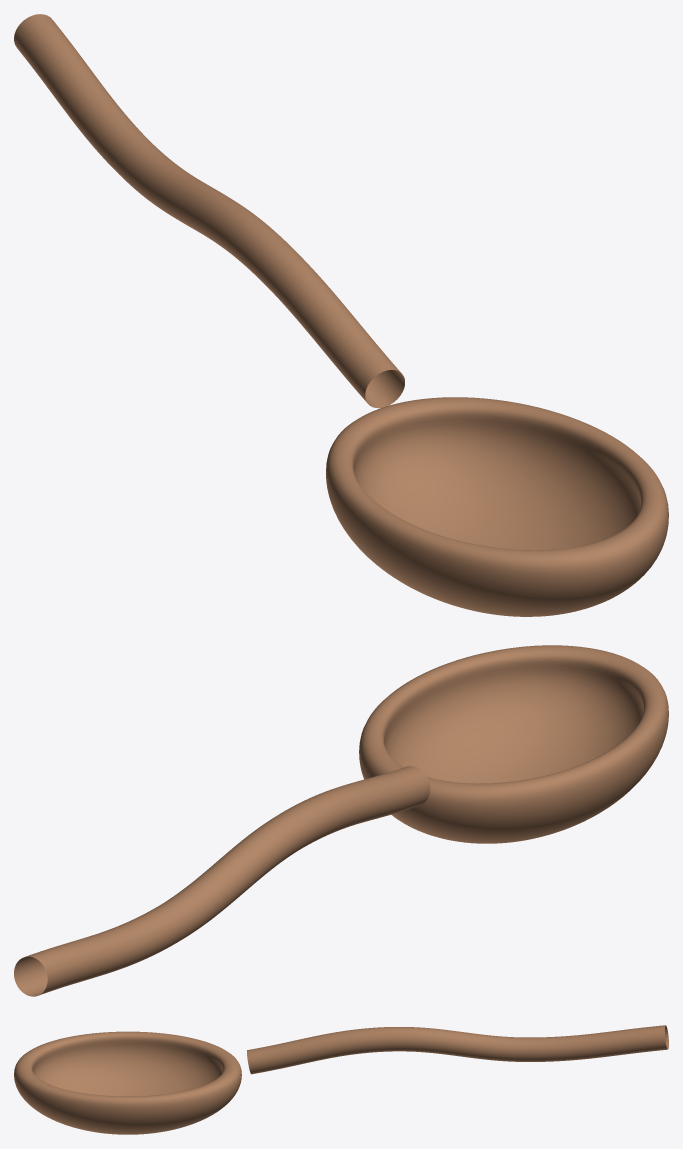
Rendered from cuchara_c.glb.
3 views of the same model, one above another, from view 1: azimuth 30°, elevation 25°; view 2: azimuth 150°, elevation 25°; view 3: azimuth 270°, elevation 25° (orthographic). The views are drawn at different scales.
Parts seen in each view (by area): view 1: cazo_cerezo, mango_cerezo; view 2: cazo_cerezo, mango_cerezo; view 3: cazo_cerezo, mango_cerezo.
Part boxes in pixels (bbox=[...]): cazo_cerezo: bbox=[326, 397, 668, 616]; mango_cerezo: bbox=[14, 14, 404, 408]; cazo_cerezo: bbox=[359, 645, 668, 843]; mango_cerezo: bbox=[14, 766, 430, 996]; cazo_cerezo: bbox=[14, 1031, 241, 1134]; mango_cerezo: bbox=[247, 1025, 668, 1074].
Bounding box in the file's own units: 0.1471 × 0.1022 × 0.5706.
